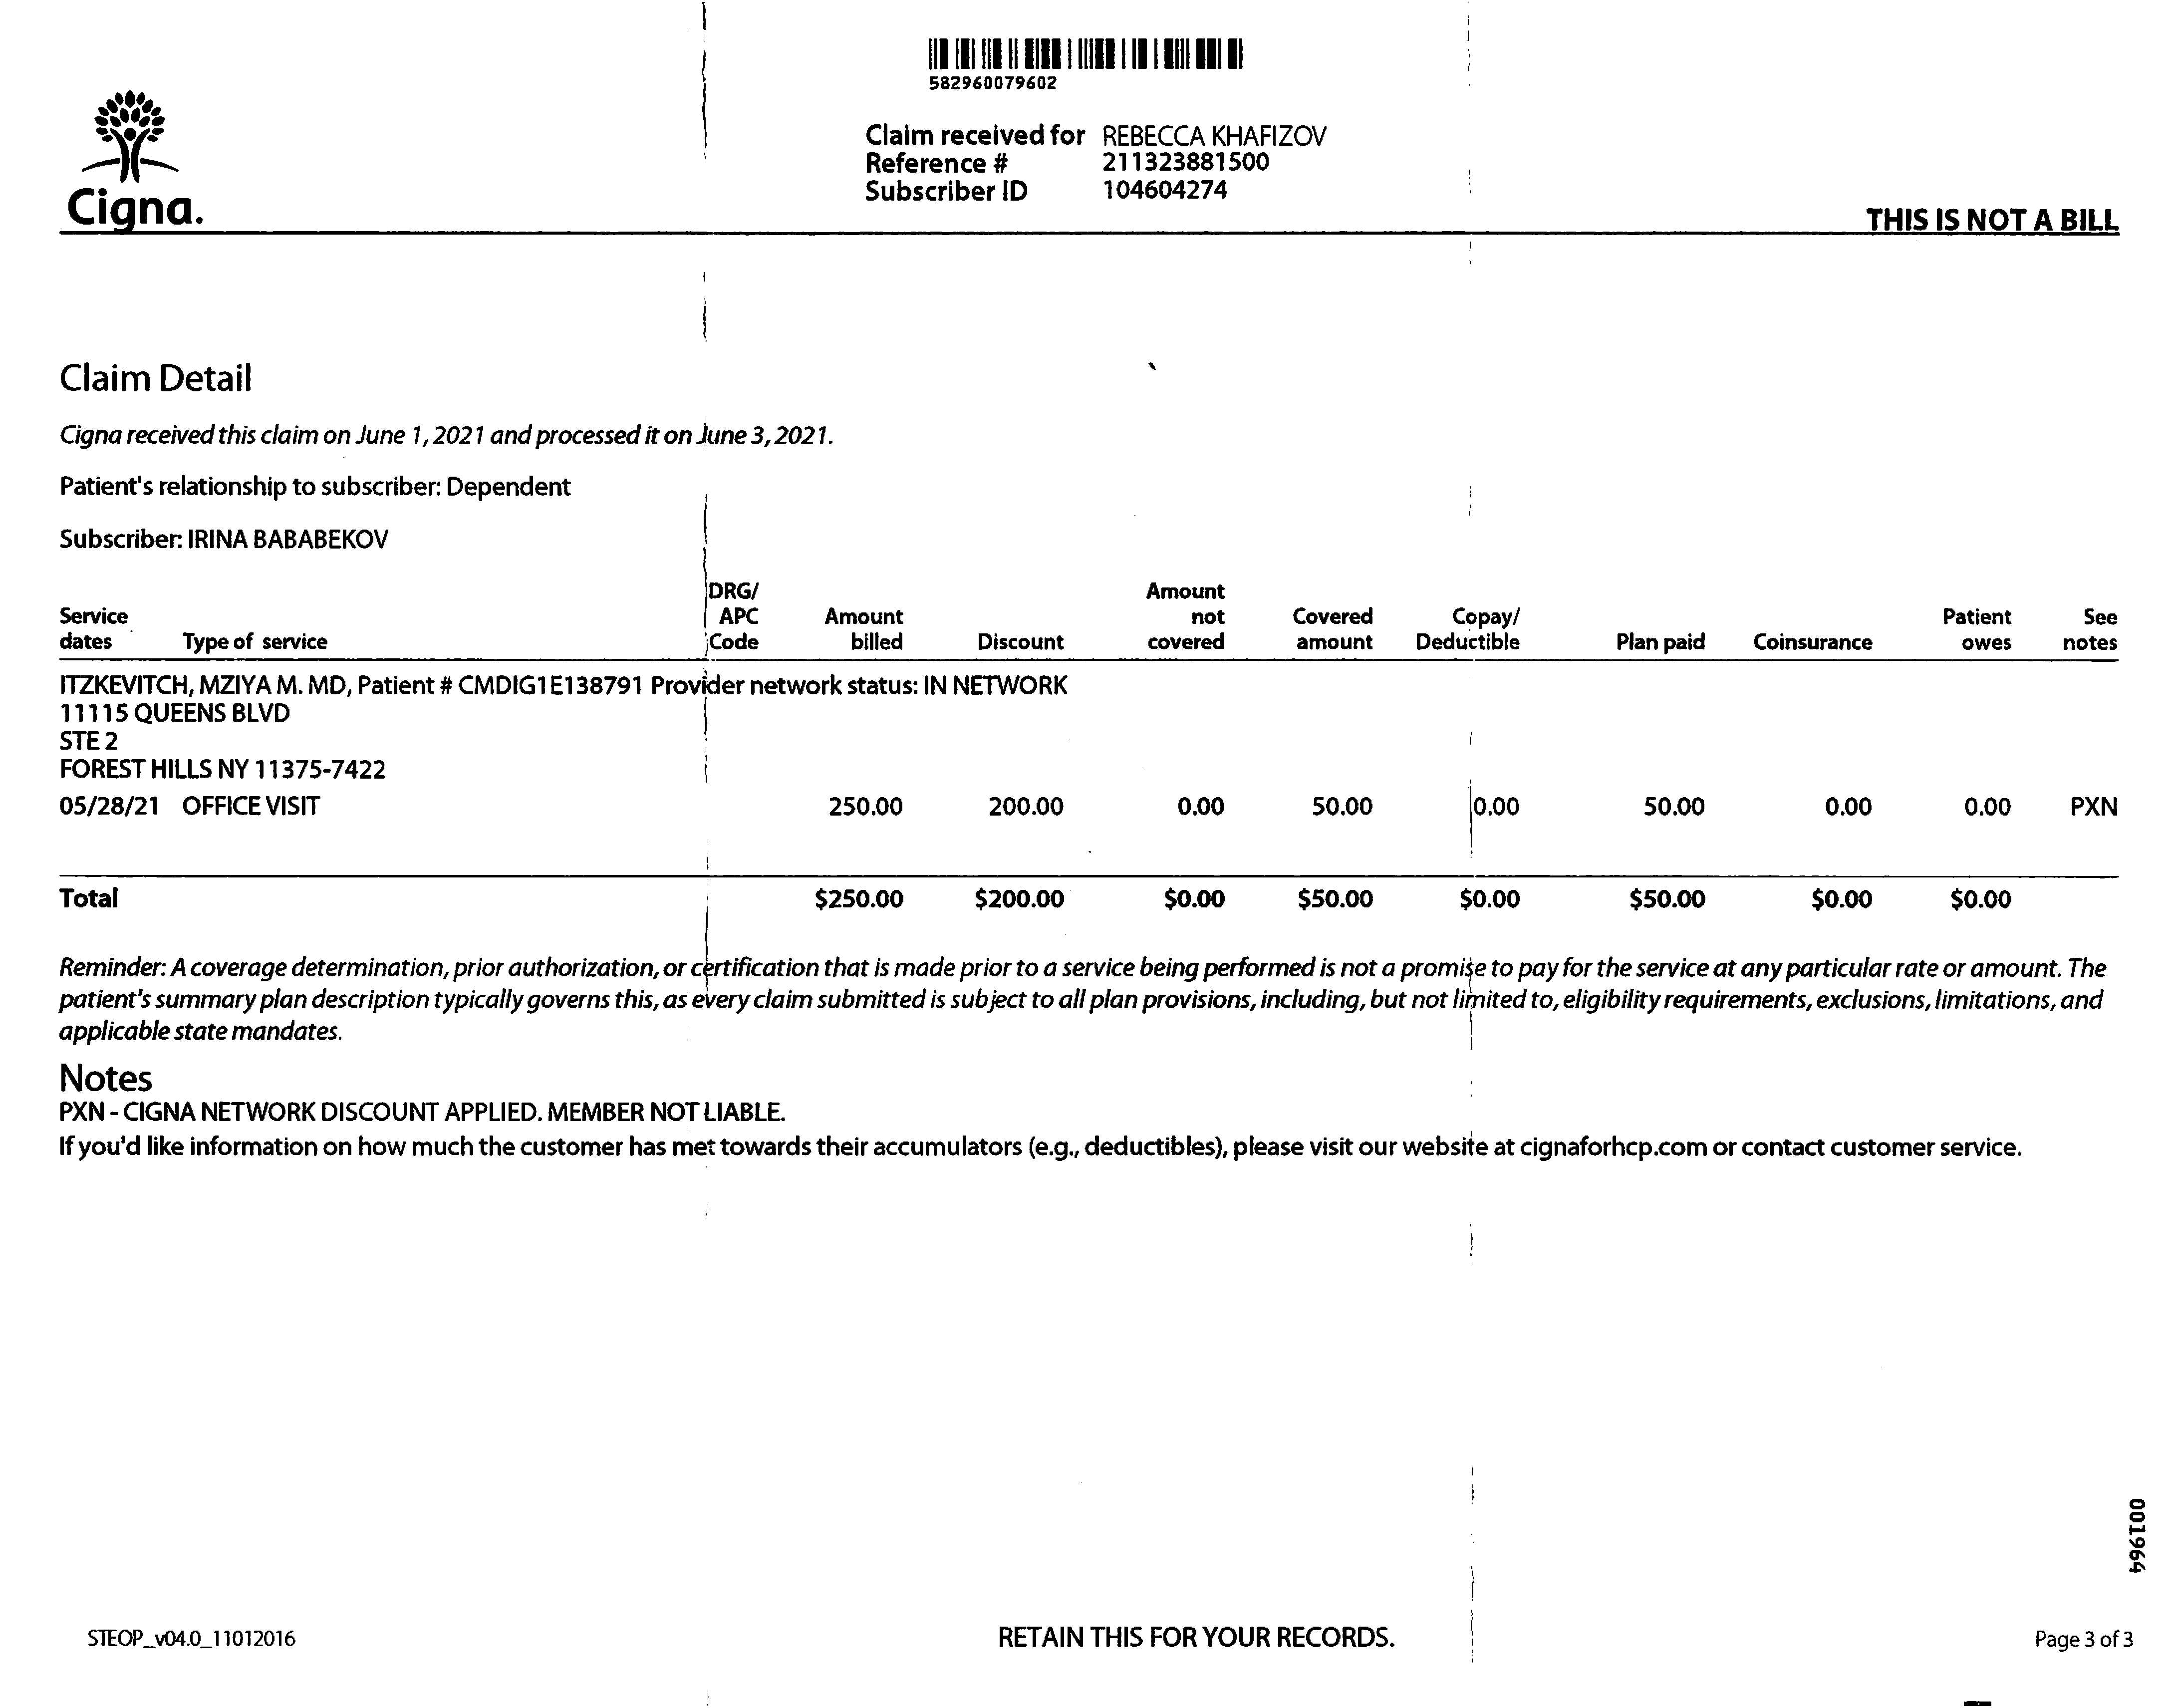table: (28, 591, 2139, 926)
